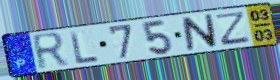5: (139, 18, 176, 56)
7: (107, 22, 135, 60)
L: (68, 29, 102, 66)
N: (180, 13, 219, 52)
R: (30, 31, 72, 73)
Z: (215, 9, 251, 47)
